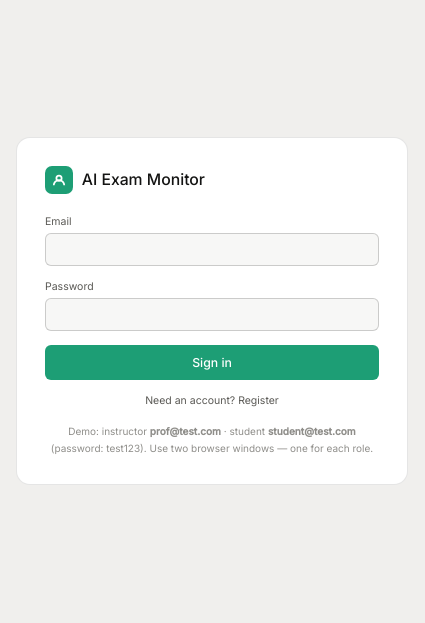
Scenario: Login › reveals the Student ID field only when role is student
Click the button "Need an account? Register" at [212, 401], box [45, 394, 379, 408]
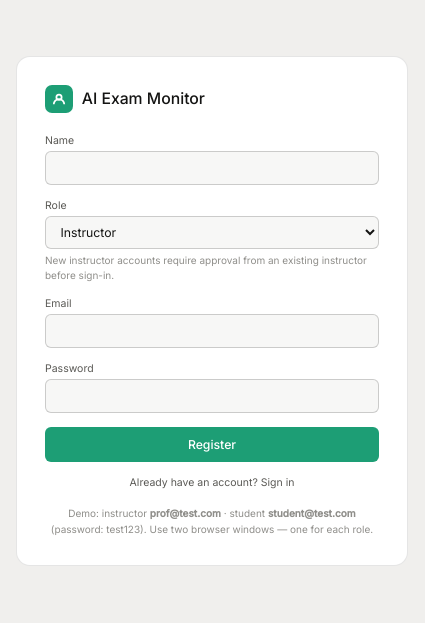
Expected: the text "Student ID" is not shown
Select "Student" in the dropdown showing "Instructor" at [212, 233], box [45, 216, 379, 249]
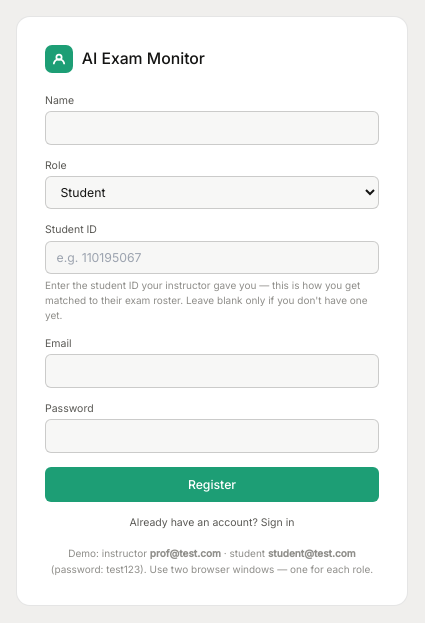
Expected: the text "Student ID" is shown, [45, 223, 97, 236]
